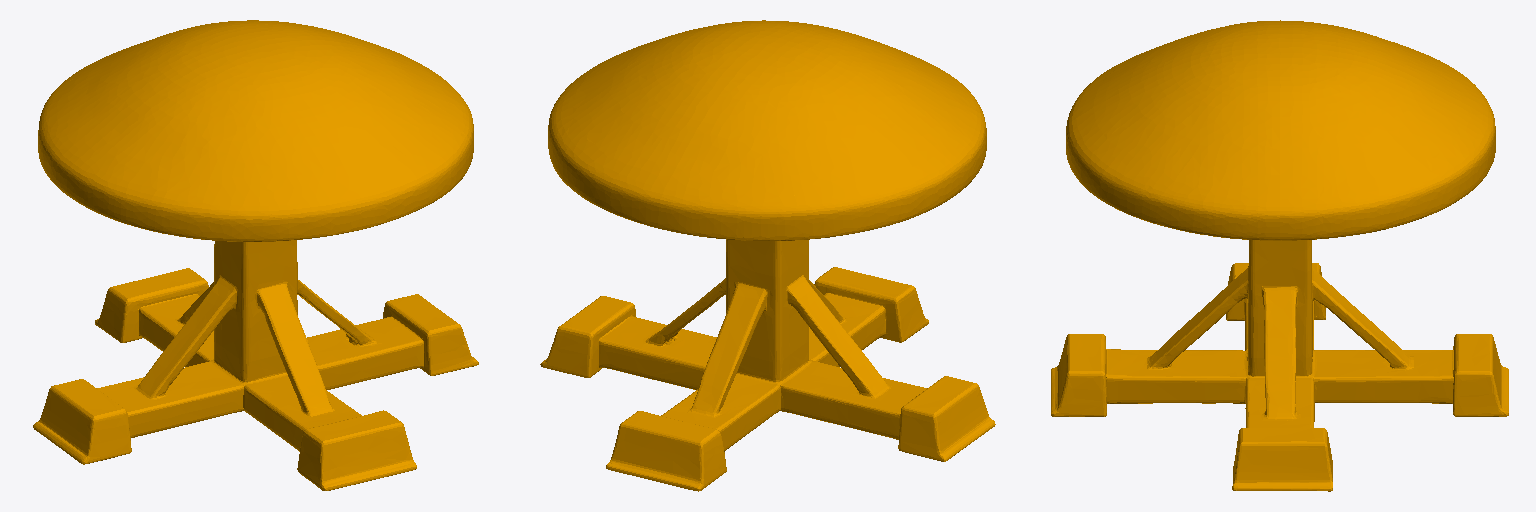
robot.urdf — mushroom:
<?xml version='1.0' encoding='utf-8'?>
<robot name="mushroom">
  <link name="mushroom_link">
    <visual>
      <origin xyz="0 0 0" rpy="0 0 0" />
      <geometry>
        <mesh filename="mushroom_visual.obj" scale="1 1 1" />
      </geometry>
    </visual>
    <collision>
      <origin xyz="0 0 0" rpy="0 0 0" />
      <geometry>
        <mesh filename="mushroom_visual.obj" scale="1 1 1" />
      </geometry>
    </collision>
  </link>
</robot>

--- Render facts (derived) ---
The picture shows the robot from 3 angles, left to right: view 1: azimuth 30°, elevation 25°; view 2: azimuth 150°, elevation 25°; view 3: azimuth 270°, elevation 25°; orthographic projection.
Model mushroom with 1 links and 0 joints (none), rooted at mushroom_link, posed every joint at zero.
Visible links, largest first — view 1: mushroom_link; view 2: mushroom_link; view 3: mushroom_link.
Link boxes in pixels (box(x1,y1,x2,y2)): mushroom_link: box(33, 20, 478, 490); mushroom_link: box(540, 20, 995, 491); mushroom_link: box(1051, 20, 1508, 491).
Bounding box of the posed robot: 0.665 × 0.6616 × 0.553 m (x, y, z).
1 mesh visuals loaded from 1 distinct referenced files (1 OBJ).
